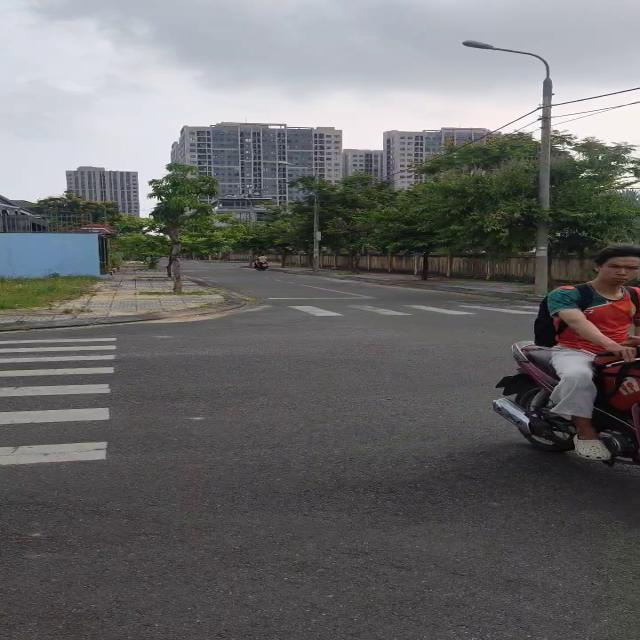no_helmet: (581, 242, 640, 290)
